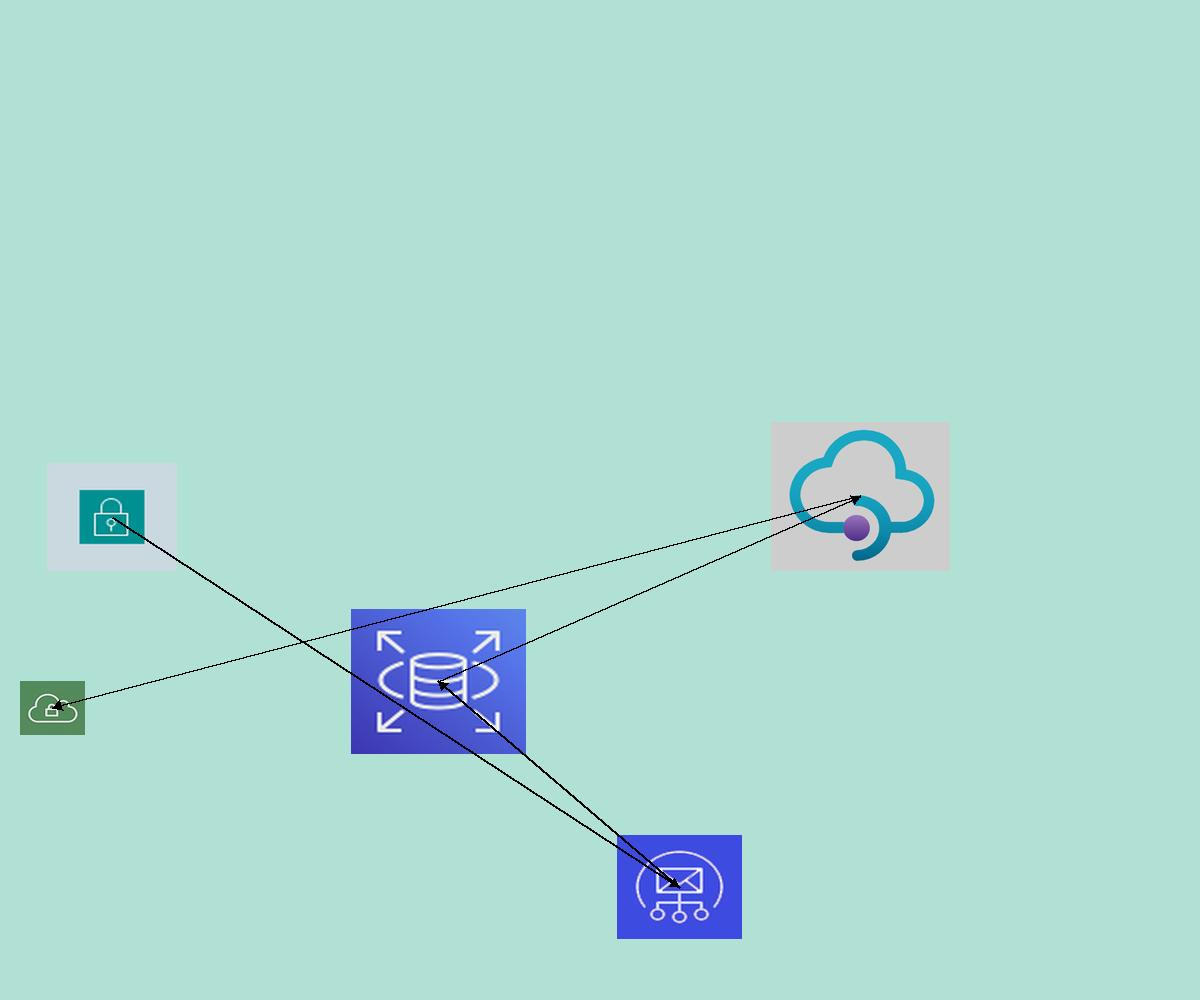AWS-Private-subnet: (47, 463, 177, 571)
AWS-Private_vpc: (20, 681, 85, 735)
AWS-RDS: (351, 609, 526, 754)
AWS-Simple-Email-Service: (617, 835, 742, 939)
Azure_api_gateway: (771, 422, 950, 571)
